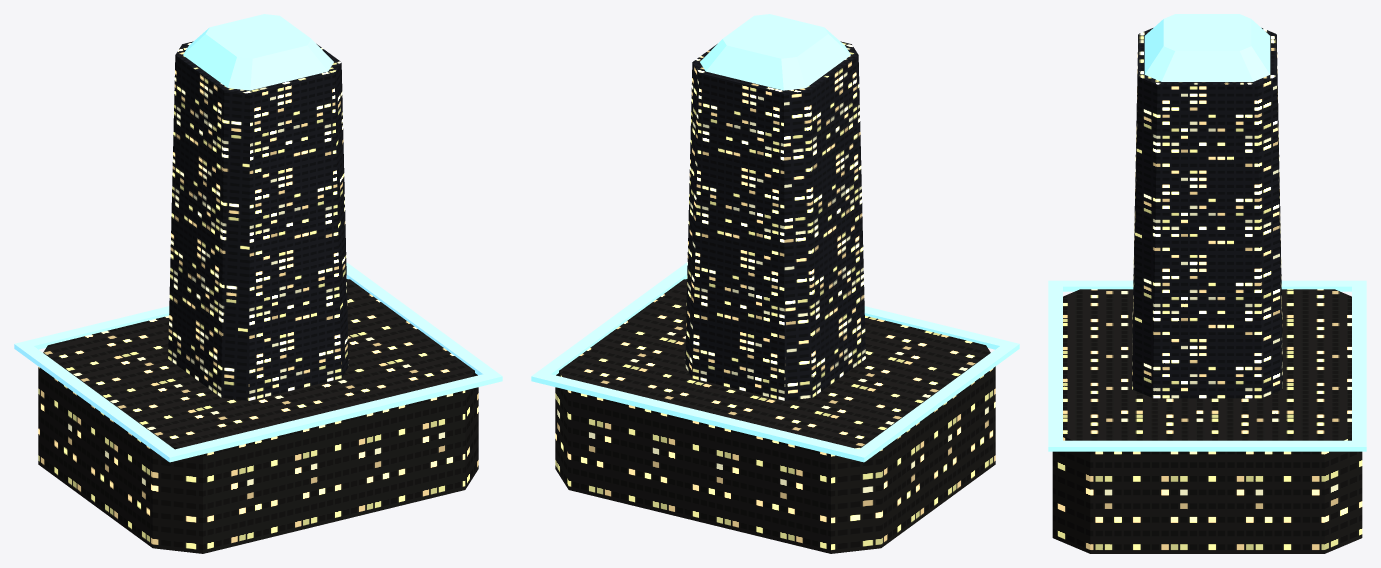
File: komtar-jbcc.glb
The picture shows the model from 3 angles, left to right: view 1: azimuth 30°, elevation 25°; view 2: azimuth 150°, elevation 25°; view 3: azimuth 270°, elevation 25°; orthographic projection. The views are drawn at different scales.
Parts seen in each view (by area): view 1: podium, tower, podium-led, crown; view 2: podium, tower, podium-led, crown; view 3: podium, tower, podium-led, crown.
Boxes of the visible parts, x1,y1,x2,y2 form: podium: (38,279,478,553); tower: (168,41,348,400); podium-led: (14,262,502,462); crown: (183,14,333,90); podium: (555,279,995,553); tower: (685,41,865,400); podium-led: (531,262,1019,462); crown: (700,14,850,90); podium: (1052,289,1362,553); tower: (1132,28,1282,398); podium-led: (1048,280,1366,451); crown: (1144,14,1270,81).
Bounding box in the file's own units: 94 × 116 × 76.
3 materials, 2 textured.
